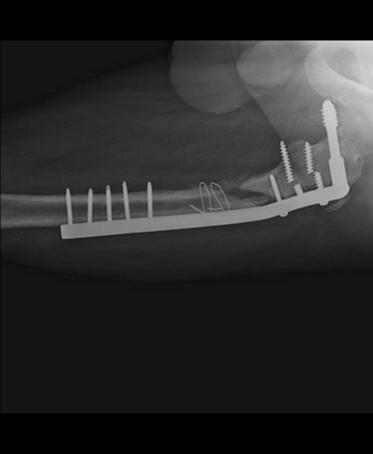fractured: (184, 176, 274, 211)
